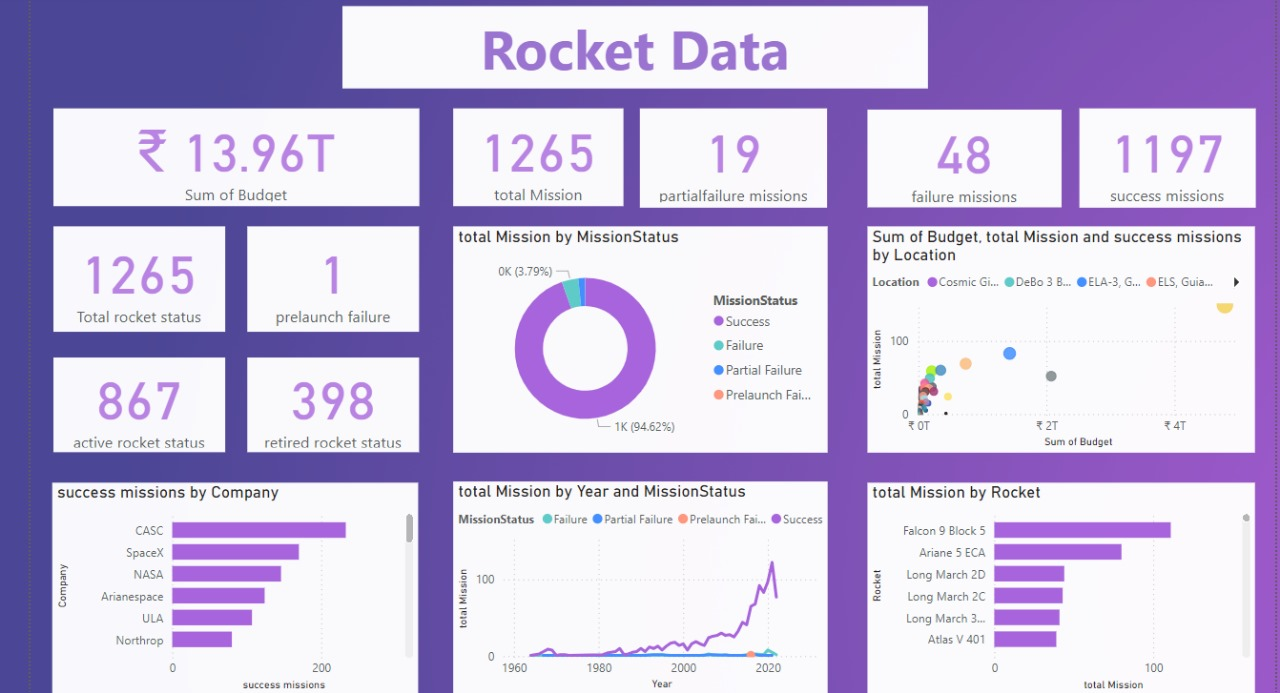

What the dashboard file says about the page in this screenshot:
{"tool":"powerbi","page":{"name":"Page 1","canvas":[1280,720],"ordinal":0},"visuals":[{"type":"card","title":"Anto''s visual","fields":{"Values":["space_missions.Budget"]},"box":[22.9,116.9,375.9,100.8],"z":0},{"type":"card","title":"Total missions","fields":{"Values":["all_measures.total Mission"]},"box":[434.3,116.9,175.3,100.8],"z":1000},{"type":"card","fields":{"Values":["all_measures.failure missions"]},"box":[860.6,118,199.4,100.8],"z":2000},{"type":"card","fields":{"Values":["all_measures.success missions"]},"box":[1078.3,116.9,181.1,102],"z":3000},{"type":"card","fields":{"Values":["all_measures.prelaunch failure"]},"box":[222.3,237.2,176.5,108.9],"z":4000},{"type":"card","fields":{"Values":["all_measures.Total rocket status"]},"box":[22.9,237.2,176.5,108.9],"z":5000},{"type":"card","title":"Active Rocket Status","fields":{"Values":["all_measures.active rocket status"]},"box":[22.9,372.4,176.5,97.4],"z":6000},{"type":"card","fields":{"Values":["all_measures.retired rocket status"]},"box":[222.3,372.4,176.5,97.4],"z":7000},{"type":"card","fields":{"Values":["all_measures.partialfailure missions"]},"box":[626.8,116.9,192.5,102],"z":8000},{"type":"lineChart","fields":{"Category":["Date Table.Year"],"Y":["all_measures.total Mission"],"Series":["space_missions.MissionStatus"]},"box":[434.7,500.7,385.3,219.1],"z":9000},{"type":"clusteredBarChart","fields":{"Category":["space_missions.Company"],"Y":["all_measures.success missions"]},"box":[22.3,501.4,376.4,219.1],"z":10000},{"type":"clusteredBarChart","fields":{"Y":["all_measures.total Mission"],"Category":["space_missions.Rocket"]},"box":[860.6,500.8,398.8,218.9],"z":11000},{"type":"scatterChart","fields":{"X":["space_missions.Budget"],"Series":["space_missions.Location"],"Size":["all_measures.success missions"],"Y":["all_measures.total Mission"]},"box":[860.6,237.2,398.8,232.6],"z":12000},{"type":"donutChart","fields":{"Category":["space_missions.MissionStatus"],"Y":["all_measures.total Mission"]},"box":[434.3,237.2,385,232.6],"z":13000},{"type":"textbox","box":[320.9,11.5,601.6,84.8],"z":14000}]}

Visuals, with their boxes in screenshot pixels (x1, y1, x2, y2):
"Anto''s visual" card: [43, 105, 413, 204]
"Total missions" card: [448, 105, 620, 204]
card - all_measures.failure missions: [867, 106, 1064, 205]
card - all_measures.success missions: [1082, 105, 1260, 206]
card - all_measures.prelaunch failure: [239, 224, 413, 331]
card - all_measures.Total rocket status: [43, 224, 216, 331]
"Active Rocket Status" card: [43, 357, 216, 453]
card - all_measures.retired rocket status: [239, 357, 413, 453]
card - all_measures.partialfailure missions: [637, 105, 827, 206]
lineChart - Date Table.Year x all_measures.total Mission: [448, 483, 827, 692]
clusteredBarChart - space_missions.Company x all_measures.success missions: [42, 484, 413, 692]
clusteredBarChart - all_measures.total Mission x space_missions.Rocket: [867, 483, 1260, 692]
scatterChart - space_missions.Budget x space_missions.Location: [867, 224, 1260, 453]
donutChart - space_missions.MissionStatus x all_measures.total Mission: [448, 224, 827, 453]
textbox: [336, 1, 928, 85]
